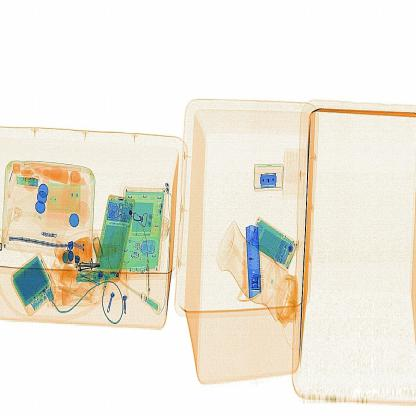pliers: (240, 219, 268, 310)
